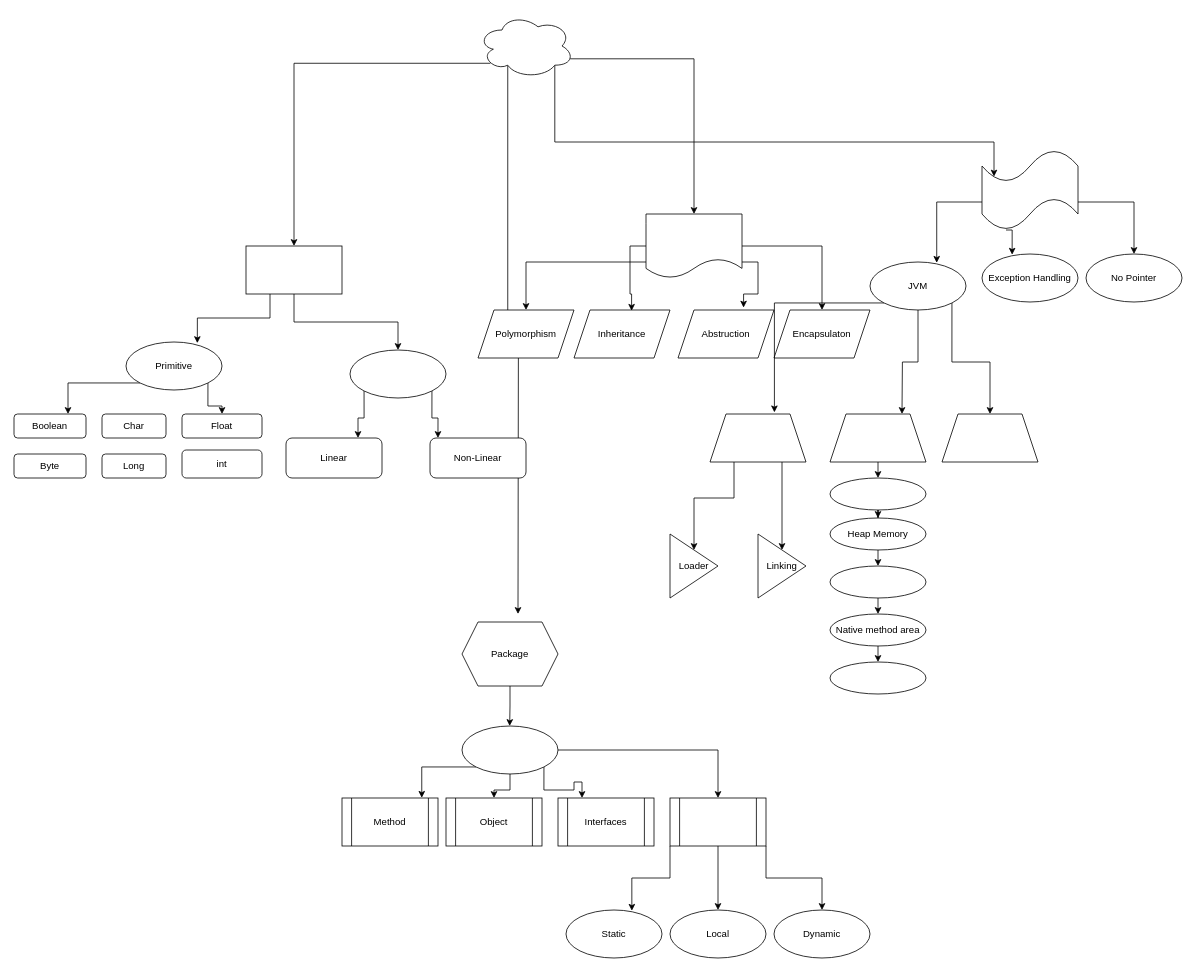
Image size: 1196x972. Some labels were removed from this diagram. The centre of each missing label's shape, as x and y in pixels:
Class: point (509, 749)
ClassLoader: point (757, 437)
Data Structure: point (293, 269)
Execution engine: point (989, 437)
JAVA: point (525, 45)
Memory acces: point (877, 437)
Method area: point (877, 493)
Non Primitive: point (397, 373)
OOPS: point (693, 245)
PC register: point (877, 677)
Security: point (1029, 189)
Stact area: point (877, 581)
Variable: point (717, 821)
